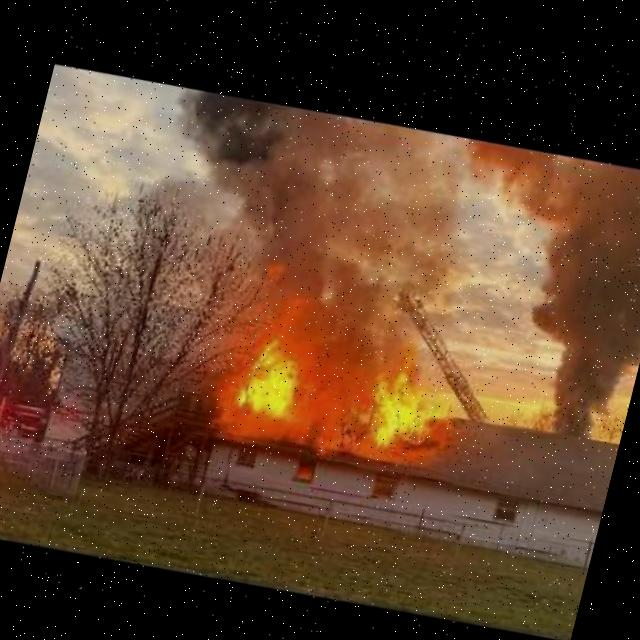fire: (209, 263, 480, 480)
